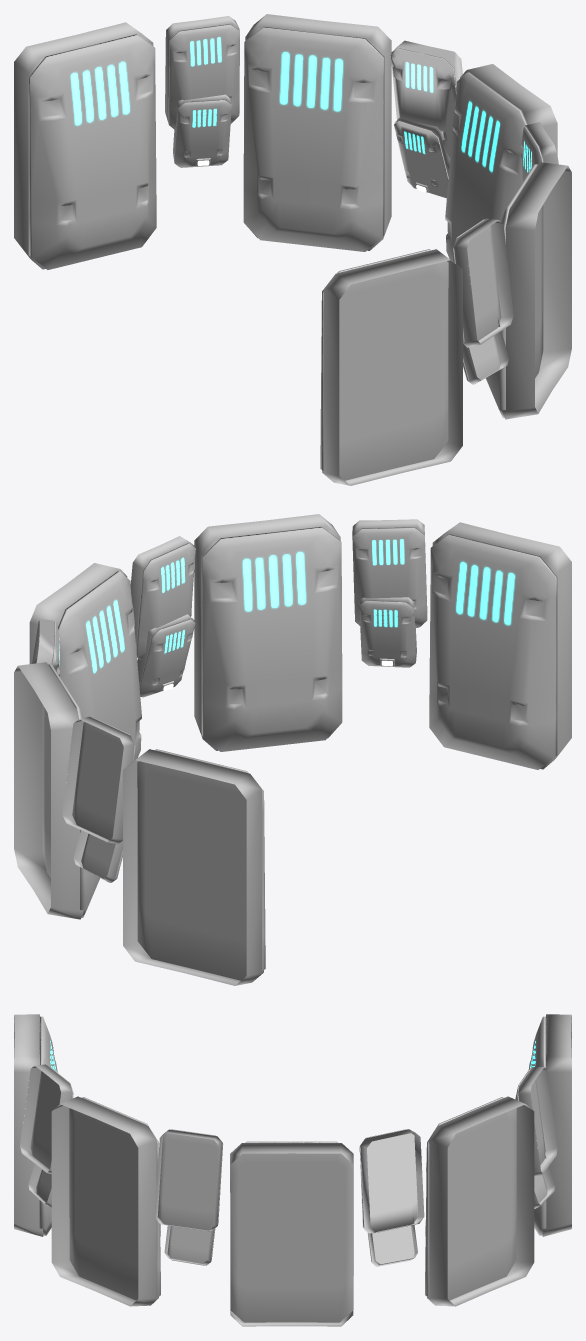
The model's file is Mesh_Zats_Batteries.fbx.
3 renders of one model, top to bottom at view 1: azimuth 30°, elevation 25°; view 2: azimuth 150°, elevation 25°; view 3: azimuth 270°, elevation 25°, orthographic. The views are drawn at different scales.
Parts seen in each view (by area): view 1: Mesh_Zats_Batteries_09, Mesh_Zats_Batteries_10, Mesh_Zats_Batteries_11, Mesh_Zats_Batteries_12, Mesh_Zats_Batteries_13, Mesh_Zats_Batteries_02, Mesh_Zats_Batteries_04, Mesh_Zats_Batteries_08, Mesh_Zats_Batteries_01, Mesh_Zats_Batteries_07, Mesh_Zats_Batteries_03, Mesh_Zats_Batteries_06; view 2: Mesh_Zats_Batteries_12, Mesh_Zats_Batteries_11, Mesh_Zats_Batteries_10, Mesh_Zats_Batteries_09, Mesh_Zats_Batteries_13, Mesh_Zats_Batteries_02, Mesh_Zats_Batteries_04, Mesh_Zats_Batteries_06, Mesh_Zats_Batteries_03, Mesh_Zats_Batteries_05, Mesh_Zats_Batteries_01, Mesh_Zats_Batteries_08; view 3: Mesh_Zats_Batteries_13, Mesh_Zats_Batteries_09, Mesh_Zats_Batteries_12, Mesh_Zats_Batteries_06, Mesh_Zats_Batteries_08, Mesh_Zats_Batteries_10, Mesh_Zats_Batteries_11, Mesh_Zats_Batteries_04, Mesh_Zats_Batteries_02, Mesh_Zats_Batteries_05, Mesh_Zats_Batteries_07, Mesh_Zats_Batteries_03 (+1 smaller).
Boxes of the visible parts, x1,y1,x2,y2 form: Mesh_Zats_Batteries_09: (243,14,391,251); Mesh_Zats_Batteries_10: (14,22,156,269); Mesh_Zats_Batteries_11: (320,249,462,485); Mesh_Zats_Batteries_12: (486,162,571,419); Mesh_Zats_Batteries_13: (445,64,557,260); Mesh_Zats_Batteries_02: (165,16,239,129); Mesh_Zats_Batteries_04: (452,218,513,347); Mesh_Zats_Batteries_08: (390,40,462,157); Mesh_Zats_Batteries_01: (173,94,231,167); Mesh_Zats_Batteries_07: (394,118,450,198); Mesh_Zats_Batteries_03: (463,318,508,384); Mesh_Zats_Batteries_06: (521,122,558,183); Mesh_Zats_Batteries_12: (194,514,342,751); Mesh_Zats_Batteries_11: (429,522,571,769); Mesh_Zats_Batteries_10: (123,749,265,985); Mesh_Zats_Batteries_09: (14,662,99,919); Mesh_Zats_Batteries_13: (29,563,141,760); Mesh_Zats_Batteries_02: (62,716,135,843); Mesh_Zats_Batteries_04: (352,519,427,627); Mesh_Zats_Batteries_06: (130,536,195,660); Mesh_Zats_Batteries_03: (359,597,416,667); Mesh_Zats_Batteries_05: (137,614,195,697); Mesh_Zats_Batteries_01: (73,830,122,882); Mesh_Zats_Batteries_08: (32,619,59,676); Mesh_Zats_Batteries_13: (230,1141,353,1326); Mesh_Zats_Batteries_09: (425,1096,534,1306); Mesh_Zats_Batteries_12: (51,1096,160,1306); Mesh_Zats_Batteries_06: (154,1129,223,1231); Mesh_Zats_Batteries_08: (359,1129,424,1233); Mesh_Zats_Batteries_10: (528,1014,571,1236); Mesh_Zats_Batteries_11: (14,1014,57,1236); Mesh_Zats_Batteries_04: (20,1064,73,1173); Mesh_Zats_Batteries_02: (515,1067,557,1177); Mesh_Zats_Batteries_05: (164,1225,215,1265); Mesh_Zats_Batteries_07: (367,1217,417,1266); Mesh_Zats_Batteries_03: (28,1164,51,1207).
Bounding box in the file's own units: 74.2 × 44.11 × 121.
